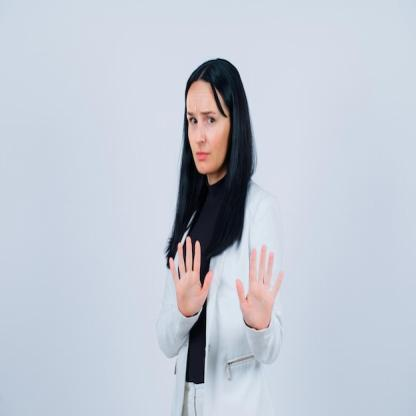stop: (233, 240, 285, 332), (166, 234, 216, 322)
